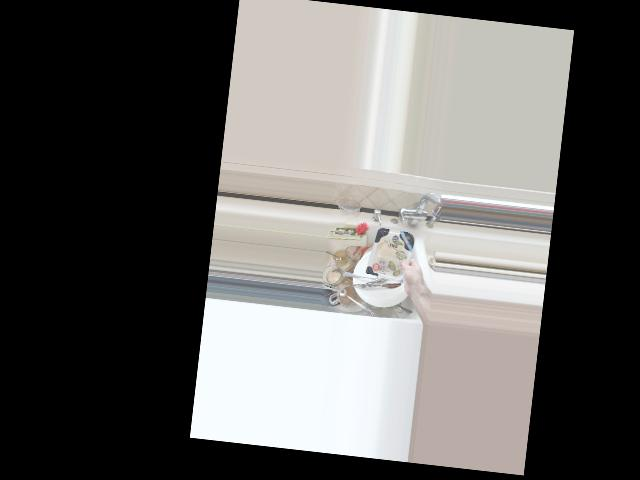cheese: (365, 223, 428, 293)
